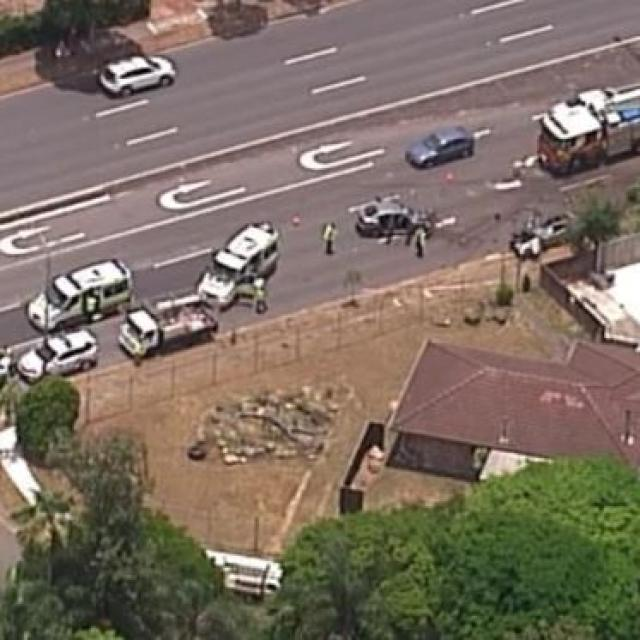traffic_incident: (347, 197, 442, 242)
